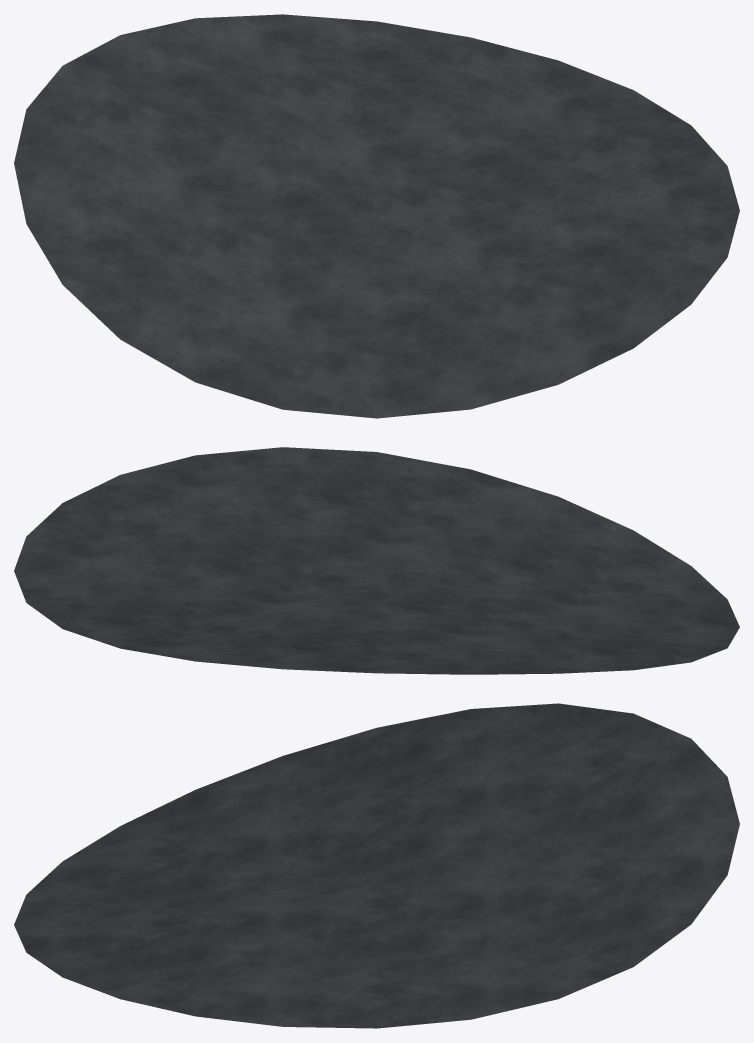
The model's file is INT-J-019.obj.
The picture shows the model from 3 angles, top to bottom: view 1: azimuth 30°, elevation 25°; view 2: azimuth 150°, elevation 25°; view 3: azimuth 270°, elevation 25°; orthographic projection.
Visible parts, largest first — view 1: INT-J-019; view 2: INT-J-019; view 3: INT-J-019.
Part boxes in pixels (left/top/right/bottom): INT-J-019: left=14, top=14, right=739, bottom=418; INT-J-019: left=14, top=447, right=739, bottom=674; INT-J-019: left=14, top=703, right=739, bottom=1028.
Size of the model in its own units: 10 by 1.87 by 10.
1 material, 1 textured.
